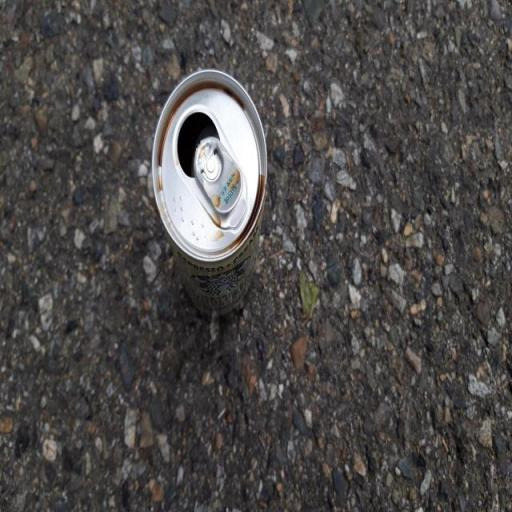metal: (140, 54, 278, 336)
